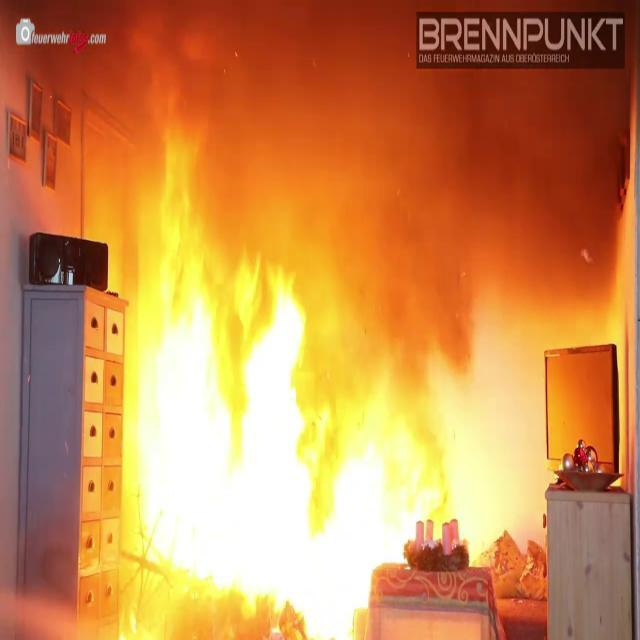Fire: (119, 140, 539, 624)
